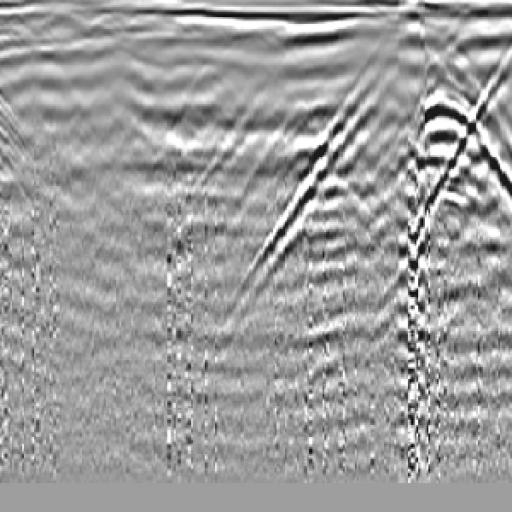metalic: (409, 30, 512, 259)
non-metallic: (192, 5, 512, 361), (361, 81, 512, 318)
